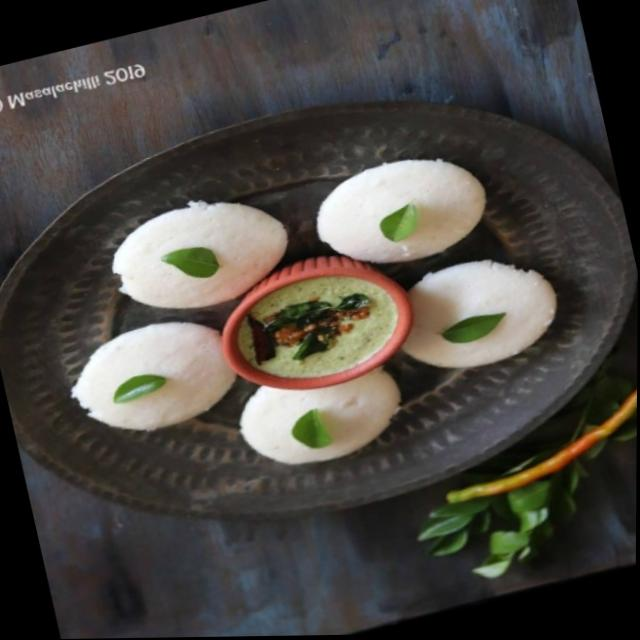GREEN CHUTNEY: (222, 258, 410, 389)
IDLI: (112, 203, 287, 307), (71, 322, 236, 431), (316, 160, 485, 262), (401, 260, 555, 368), (239, 367, 398, 464)
